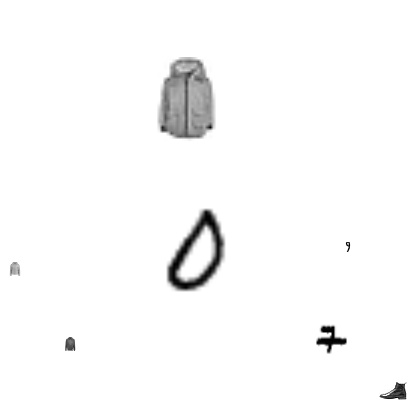3: (284, 330, 312, 358)
4: (88, 367, 130, 409)
6: (211, 362, 253, 404)
7: (74, 45, 158, 129), (97, 283, 125, 311)
Ankle_boot: (260, 74, 274, 88)
Shirt: (10, 88, 38, 116)
